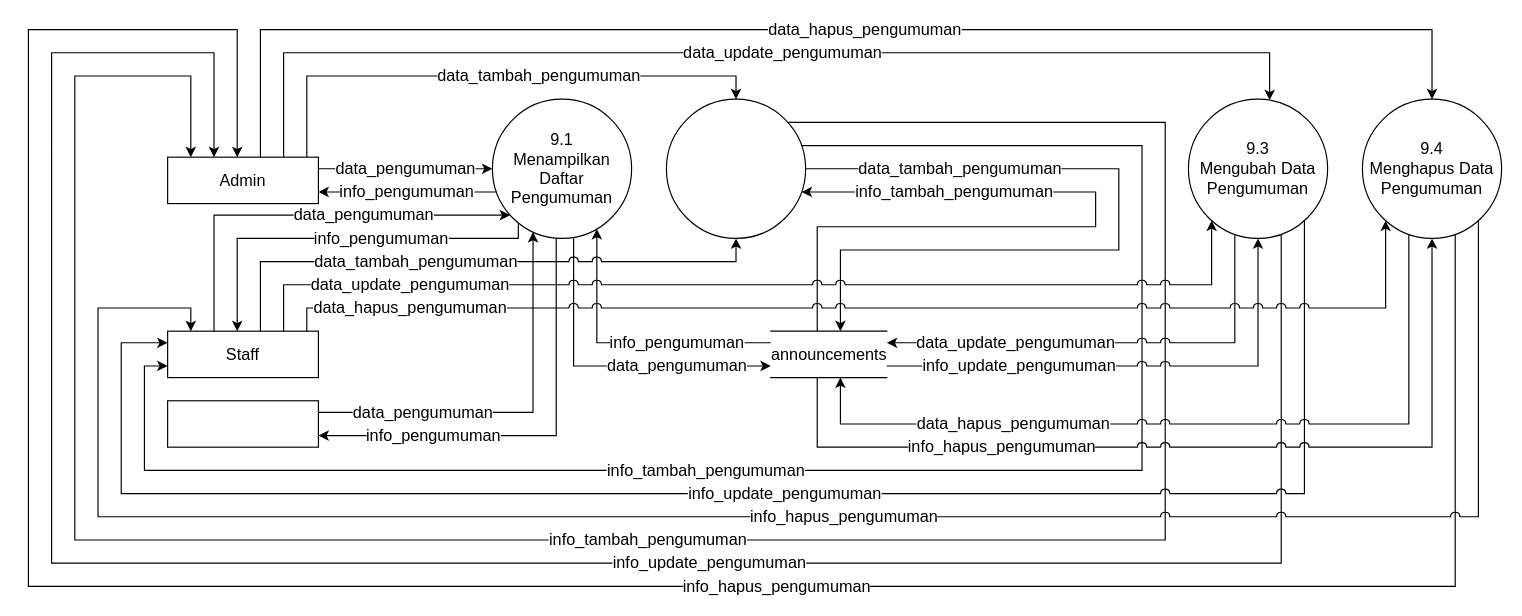
This 1522x616 diagram has some shape labels left out. The shapes that lost their labels are listed below. From the top down, each one's centre as x and y in pixels, then its label:
At point (735, 168): "9.2 Menambah Data Pengumuman Baru".
At point (242, 423): "Reseller".
